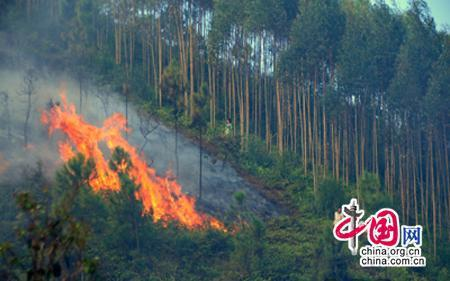fire: (30, 87, 251, 231)
